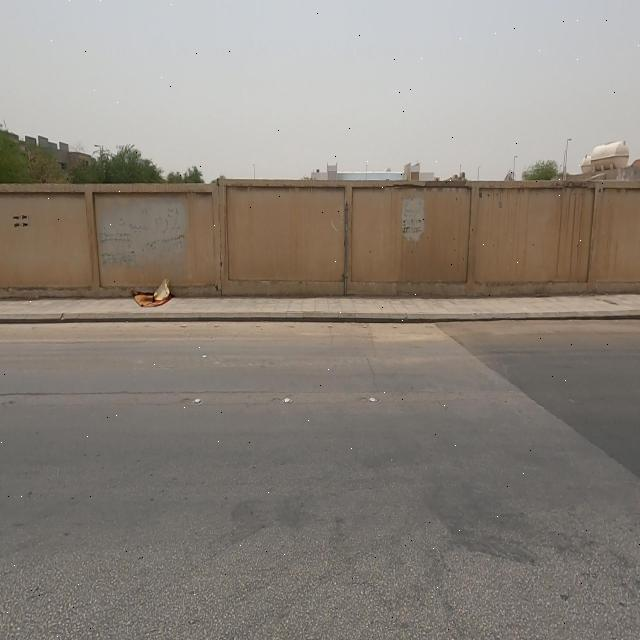Graffiti: (100, 208, 188, 274), (399, 198, 423, 236), (11, 214, 30, 230)
